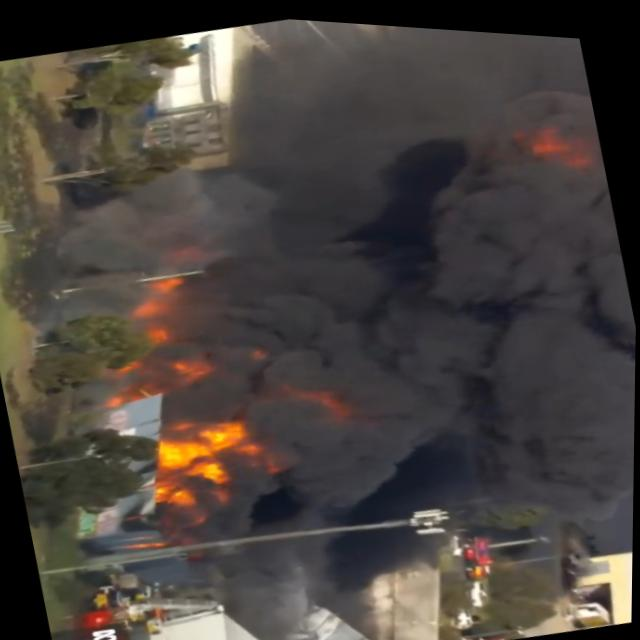Fire: (85, 262, 227, 420), (151, 401, 280, 510)
